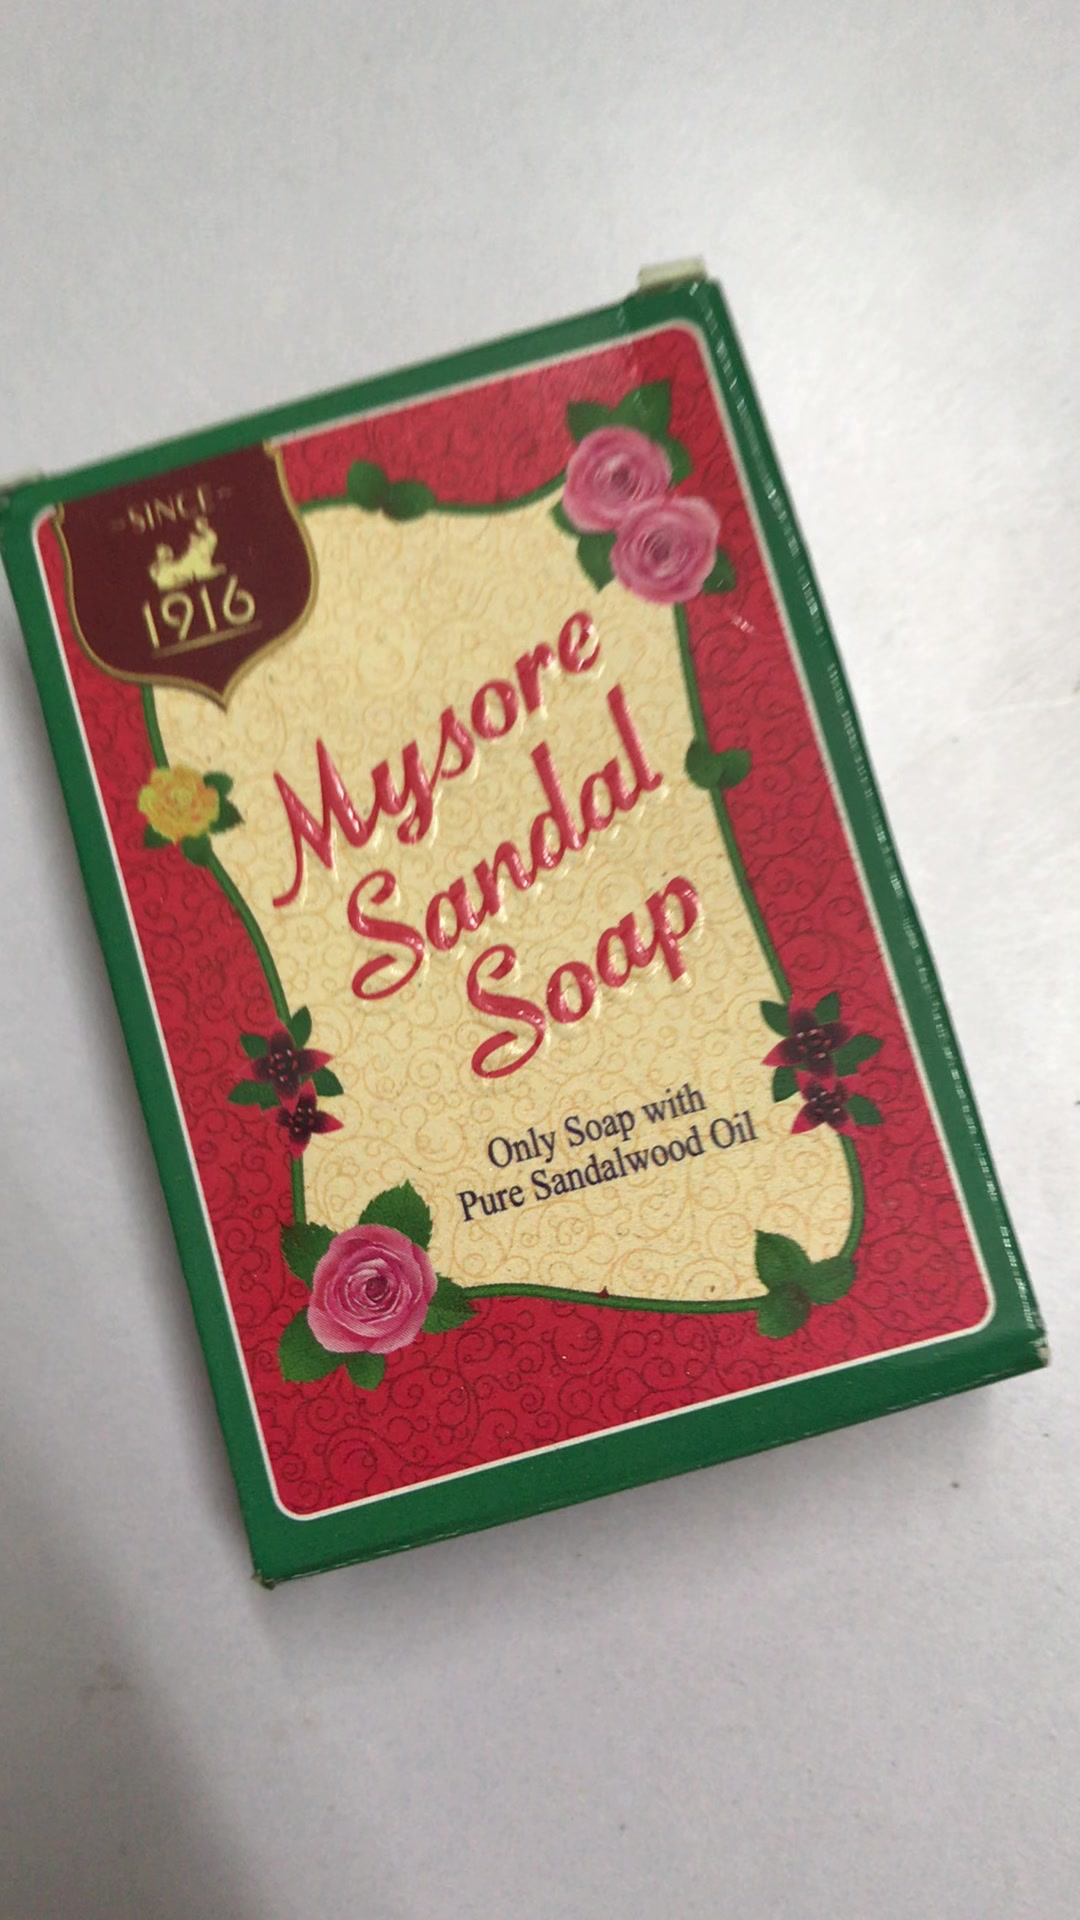mysore sandal soap: (1, 272, 1044, 1586)
